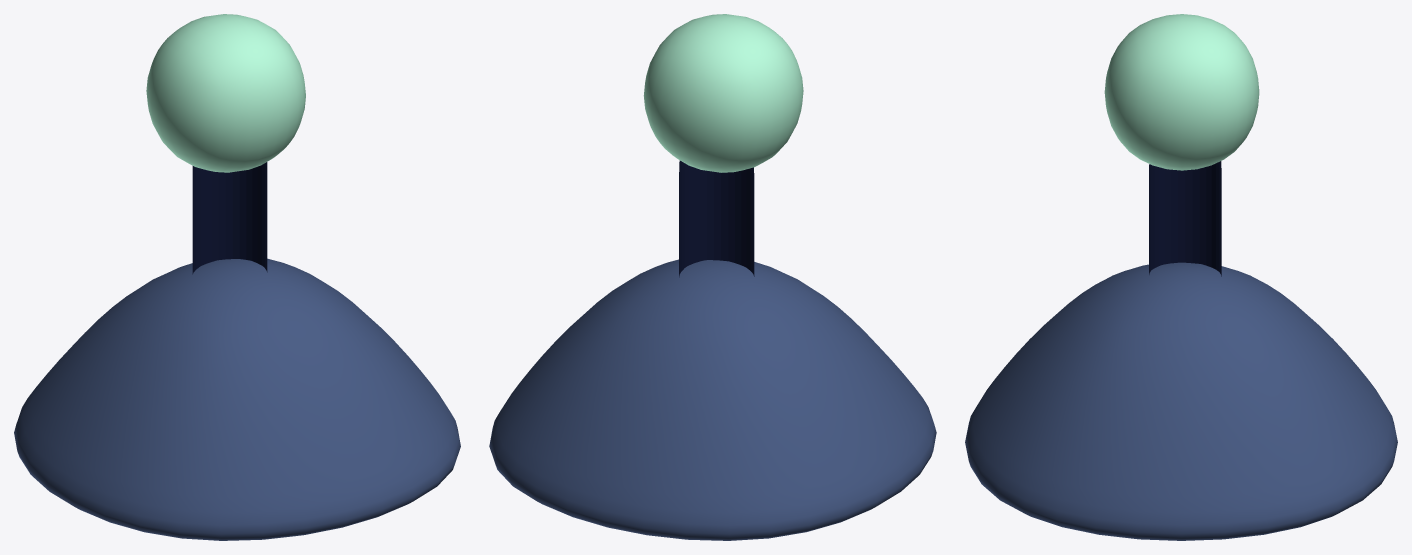
The model's file is rocket_top.fbx.
3 renders of one model, left to right at view 1: azimuth 30°, elevation 25°; view 2: azimuth 150°, elevation 25°; view 3: azimuth 270°, elevation 25°, orthographic.
Parts seen in each view (by area): view 1: Top; view 2: Top; view 3: Top.
Boxes of the visible parts, x1,y1,x2,y2 form: Top: (14, 14, 460, 540); Top: (489, 14, 936, 540); Top: (965, 14, 1397, 540).
Bounding box in the file's own units: 62.69 × 69.86 × 62.69.
